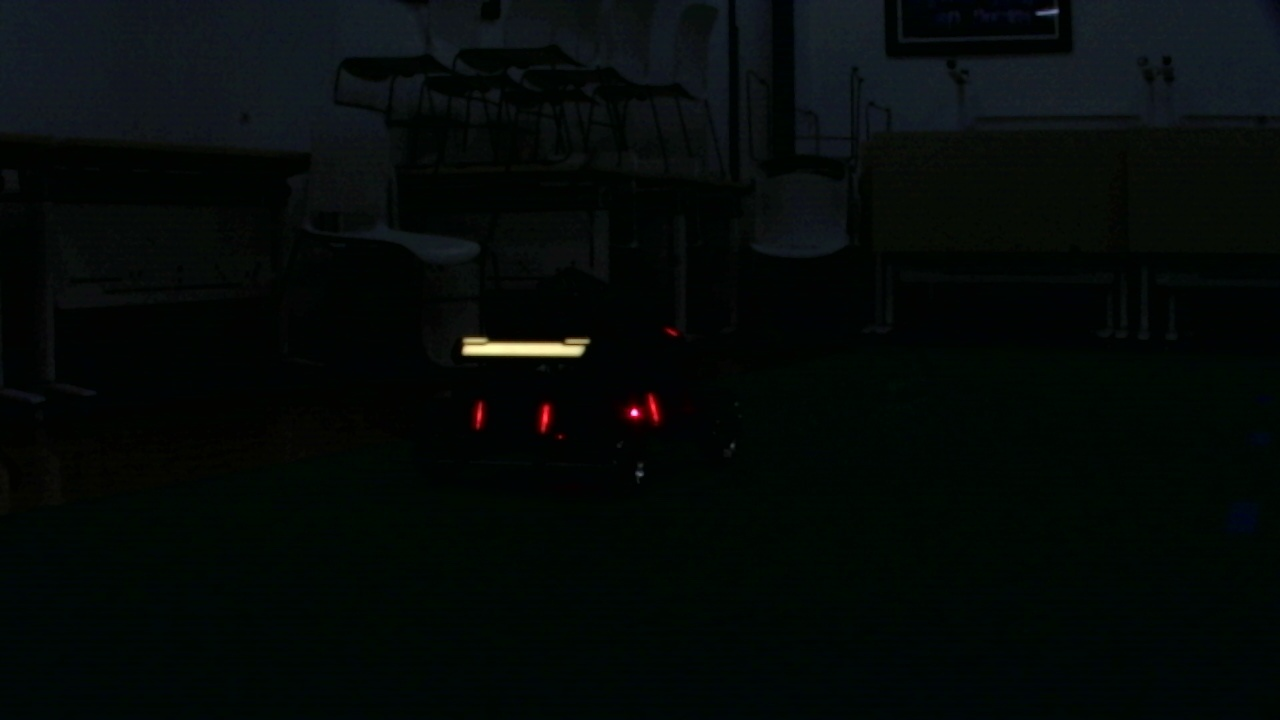lamp: (642, 390, 662, 421), (536, 400, 554, 432), (473, 396, 486, 432)
pair1: (476, 404, 551, 428)
